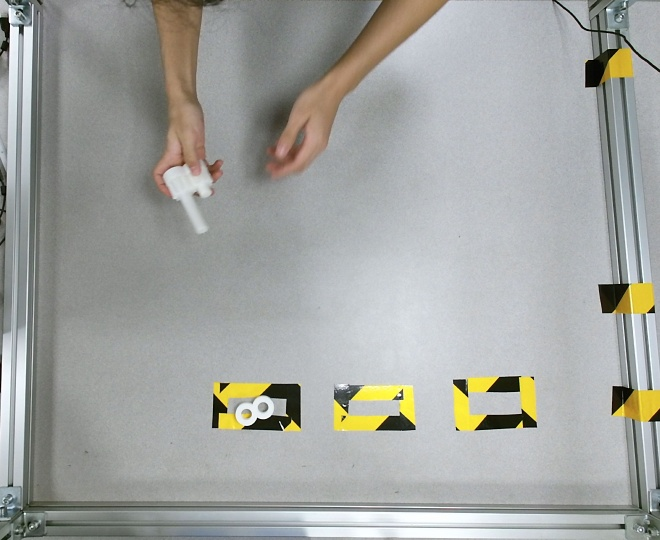stage_3: (163, 159, 212, 233)
